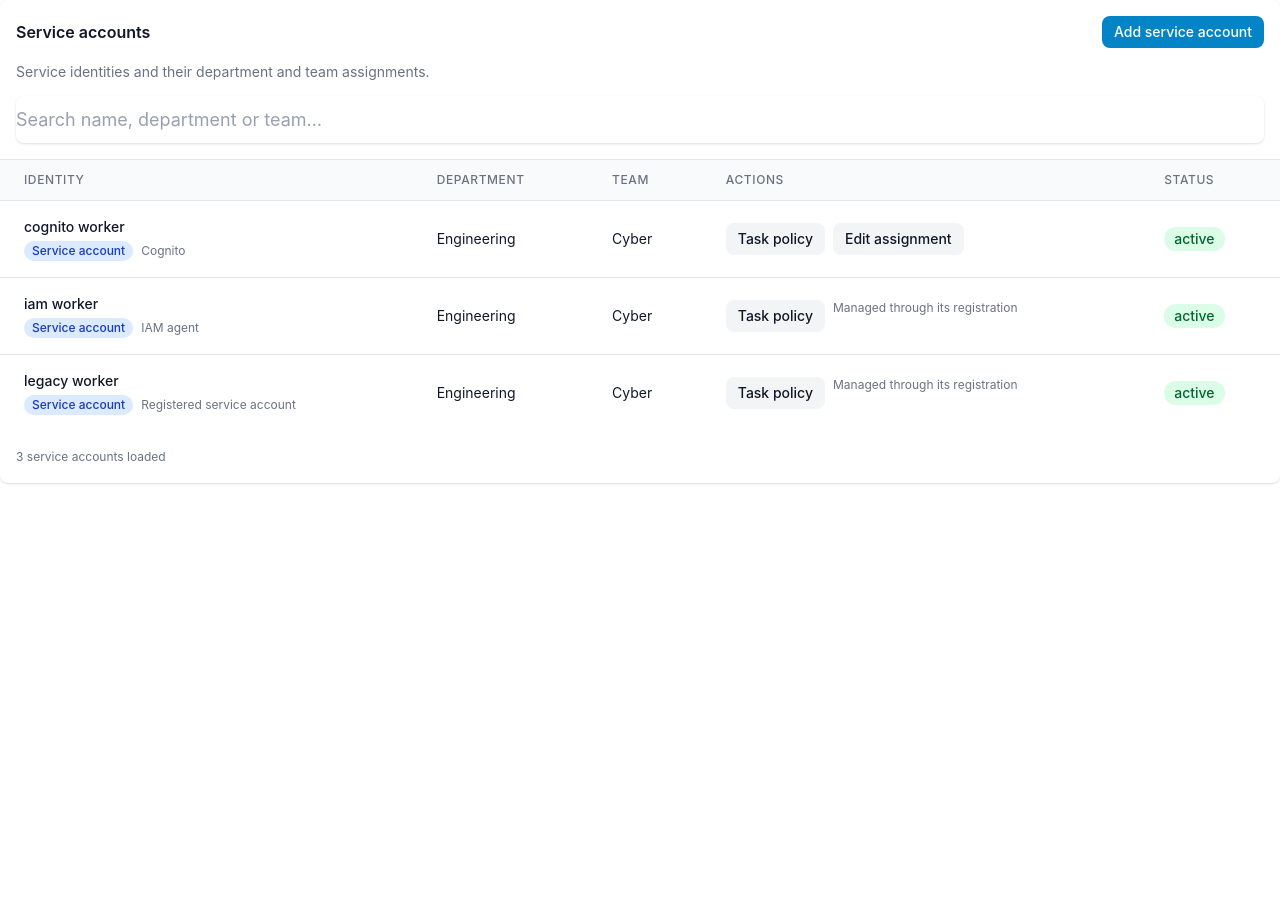
Test: exposes management actions only to organization managers and supported accounts
This screenshot has width=1280, height=900.
Expected: the text "cognito worker" is shown, [24,218,125,235]
Expected: the button "Add service account" is shown, [1102,16,1264,48]
What coordinates should you click on to do the following:
click the button "Edit assignment"
I would click on:
 (898, 239)
Its box is [833,223,964,255].
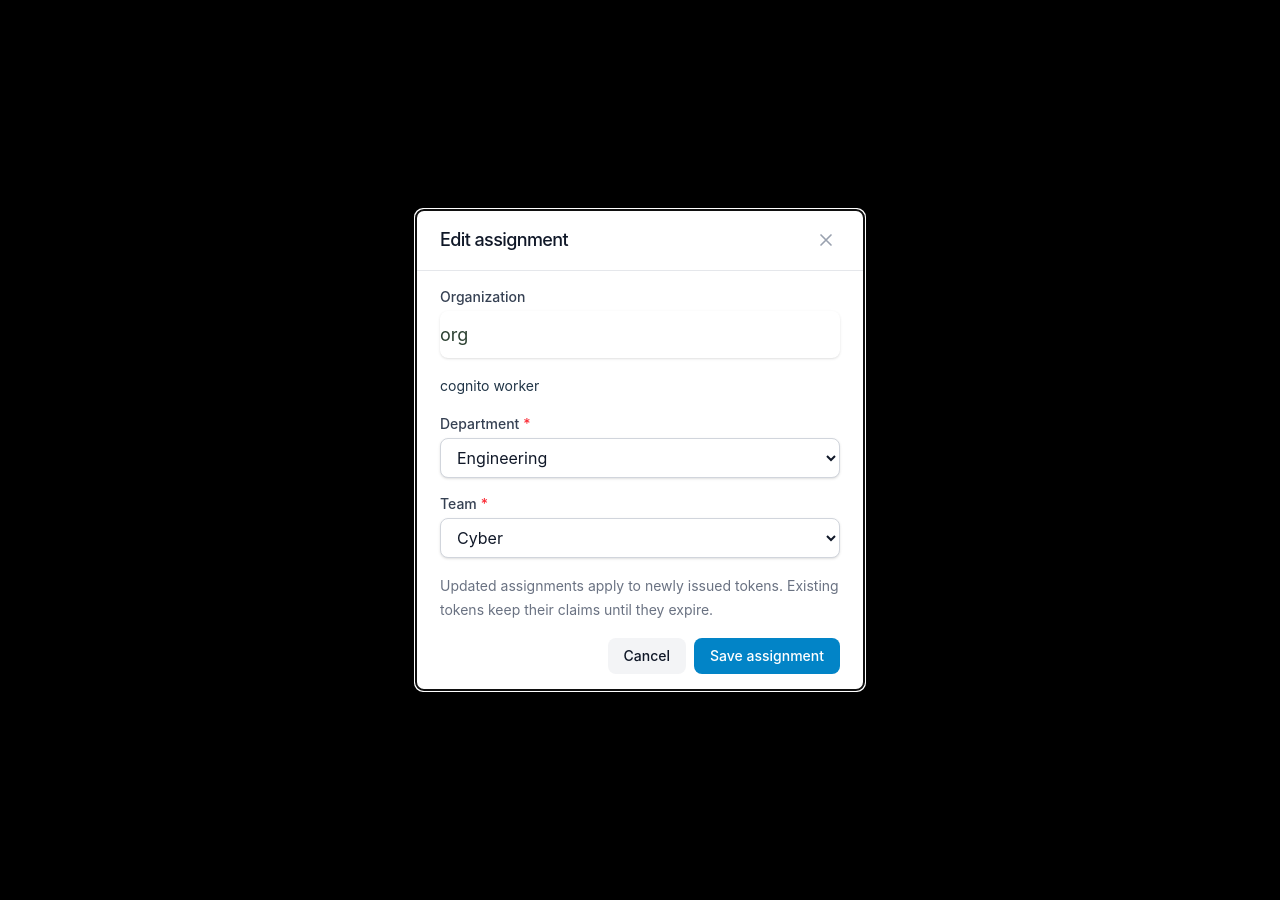
Expected: the dialog shows "cognito worker", [440,377,539,394]
